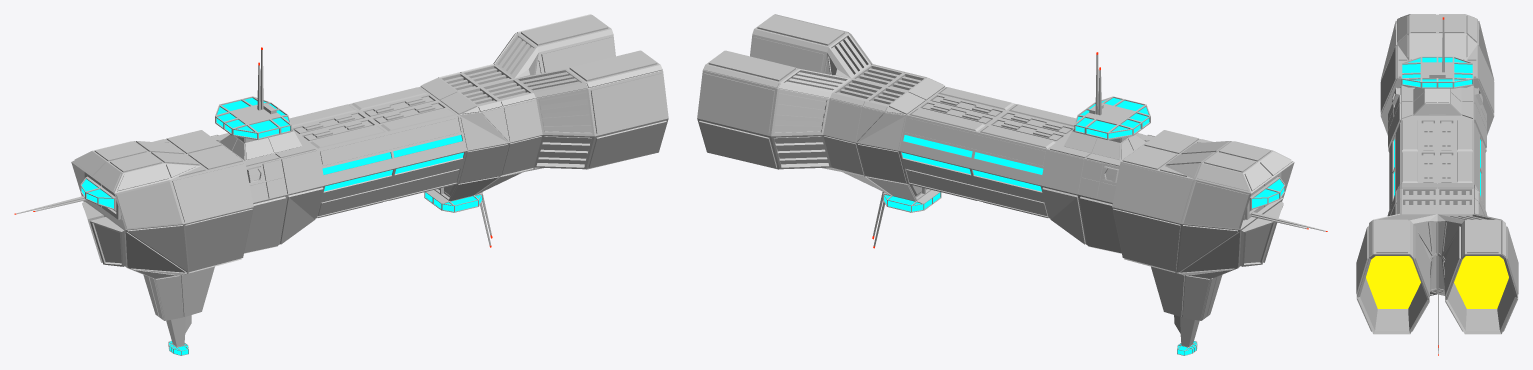
File: visby.fbx
3 views of the same model, side by side, from view 1: azimuth 30°, elevation 25°; view 2: azimuth 150°, elevation 25°; view 3: azimuth 270°, elevation 25° (orthographic). The views are drawn at different scales.
Parts seen in each view (by area): view 1: visby; view 2: visby; view 3: visby.
Boxes of the visible parts, x1=… form: visby: x1=14, y1=14, x2=668, y2=355; visby: x1=697, y1=14, x2=1327, y2=355; visby: x1=1356, y1=14, x2=1518, y2=355.
Size of the model in its own units: 16.05 by 7.15 by 4.03.
